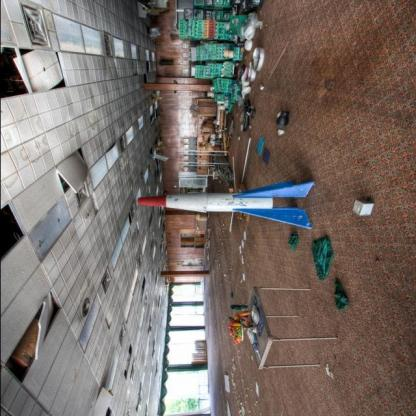MIL_TBM: (132, 192, 272, 213)
